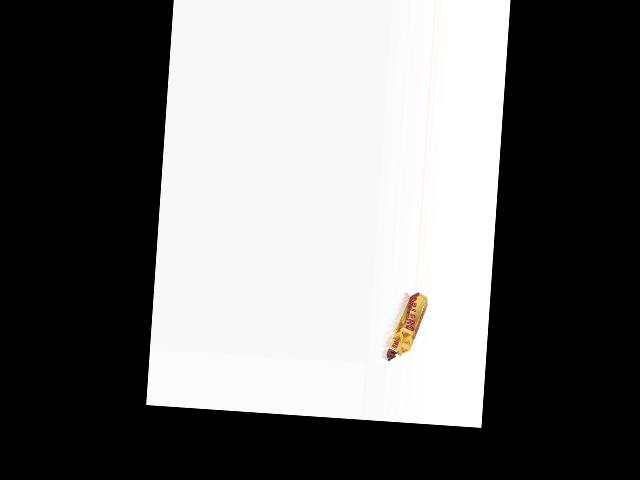chocolate: (382, 291, 429, 363)
